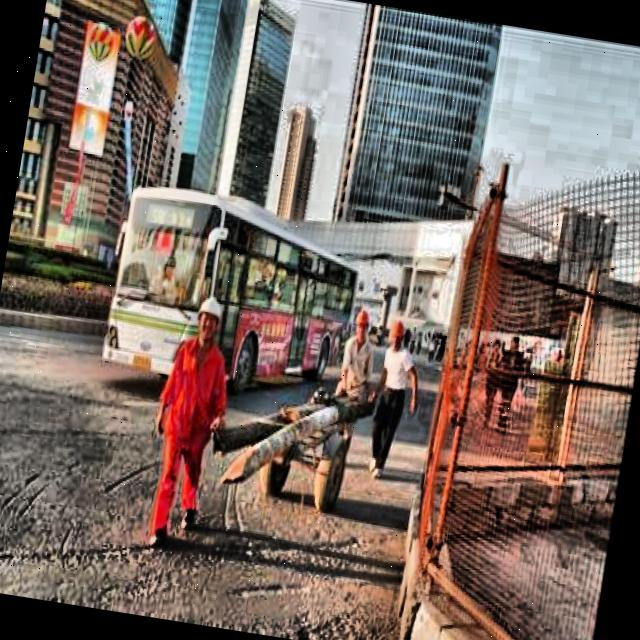helmet: (191, 292, 229, 346), (348, 310, 376, 348), (387, 316, 414, 350)
